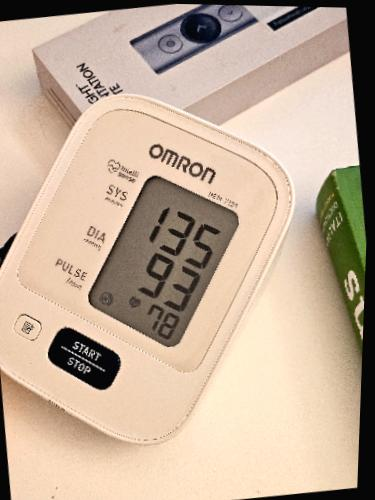bpm: (80, 169, 245, 353)
